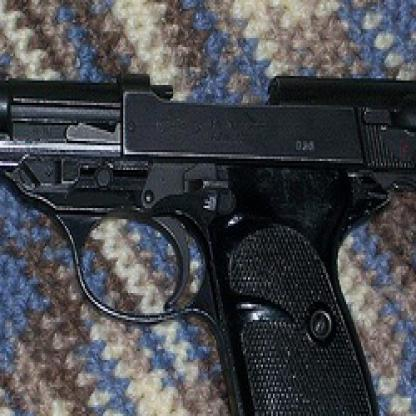gun: (0, 42, 415, 414)
